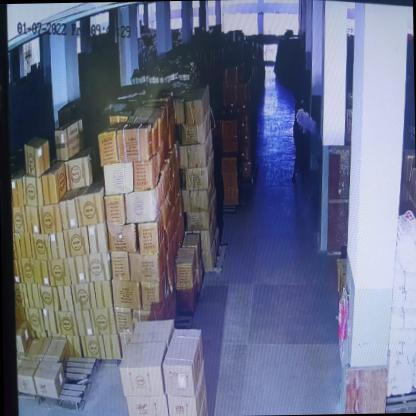smoke: (294, 107, 316, 136)
